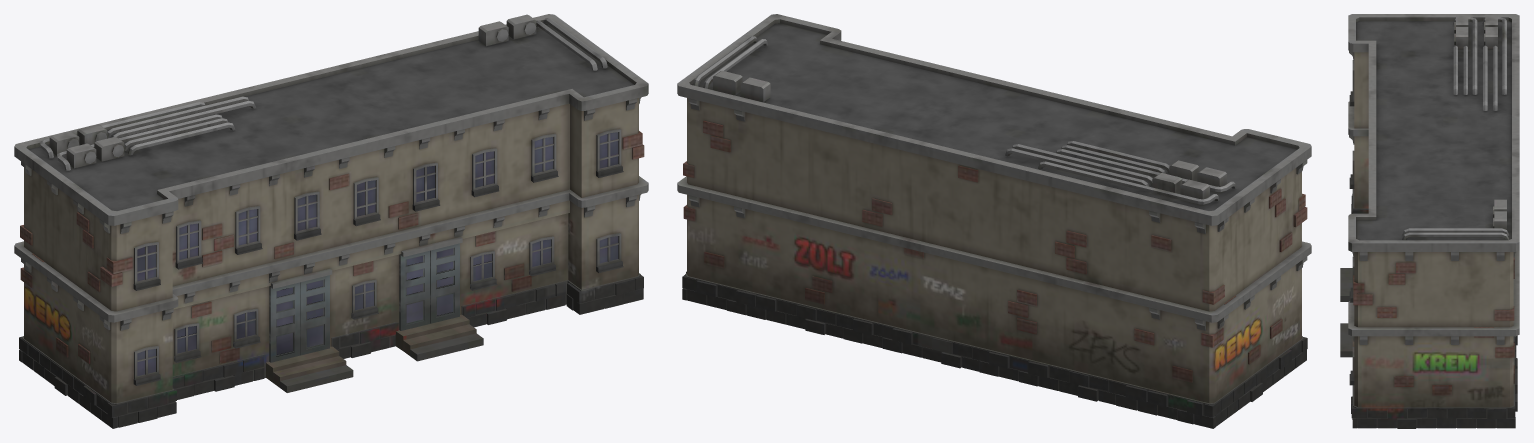
The model's file is 2Story_Wide_2Doors.glb.
3 renders of one model, left to right at view 1: azimuth 30°, elevation 25°; view 2: azimuth 150°, elevation 25°; view 3: azimuth 270°, elevation 25°, orthographic. The views are drawn at different scales.
Parts seen in each view (by area): view 1: 2Story_Wide_2Doors_low; view 2: 2Story_Wide_2Doors_low; view 3: 2Story_Wide_2Doors_low.
Boxes of the visible parts, left/top/right/bottom form: 2Story_Wide_2Doors_low: left=14, top=14, right=648, bottom=428; 2Story_Wide_2Doors_low: left=677, top=14, right=1311, bottom=428; 2Story_Wide_2Doors_low: left=1340, top=14, right=1519, bottom=428.
Size of the model in its own units: 6.83 by 2.75 by 2.26.
Materials: 2 (2 with a texture image).
